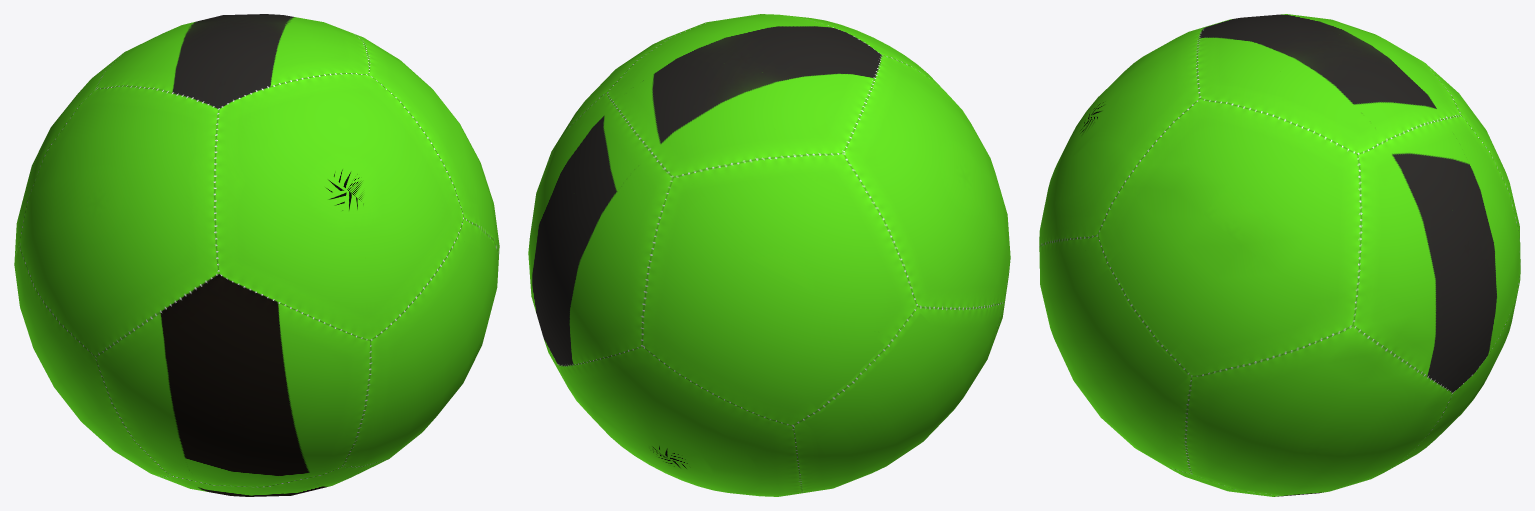
3 renders of one model, left to right at view 1: azimuth 30°, elevation 25°; view 2: azimuth 150°, elevation 25°; view 3: azimuth 270°, elevation 25°, orthographic.
Visible parts, largest first — view 1: LowPolyBall_LowPoly_0; view 2: LowPolyBall_LowPoly_0; view 3: LowPolyBall_LowPoly_0.
Boxes of the visible parts, bbox=[...] form: LowPolyBall_LowPoly_0: bbox=[14, 14, 499, 496]; LowPolyBall_LowPoly_0: bbox=[528, 14, 1010, 496]; LowPolyBall_LowPoly_0: bbox=[1039, 14, 1520, 496].
Bounding box in the file's own units: 166 × 166 × 166.
Materials: 1 (1 with a texture image).
